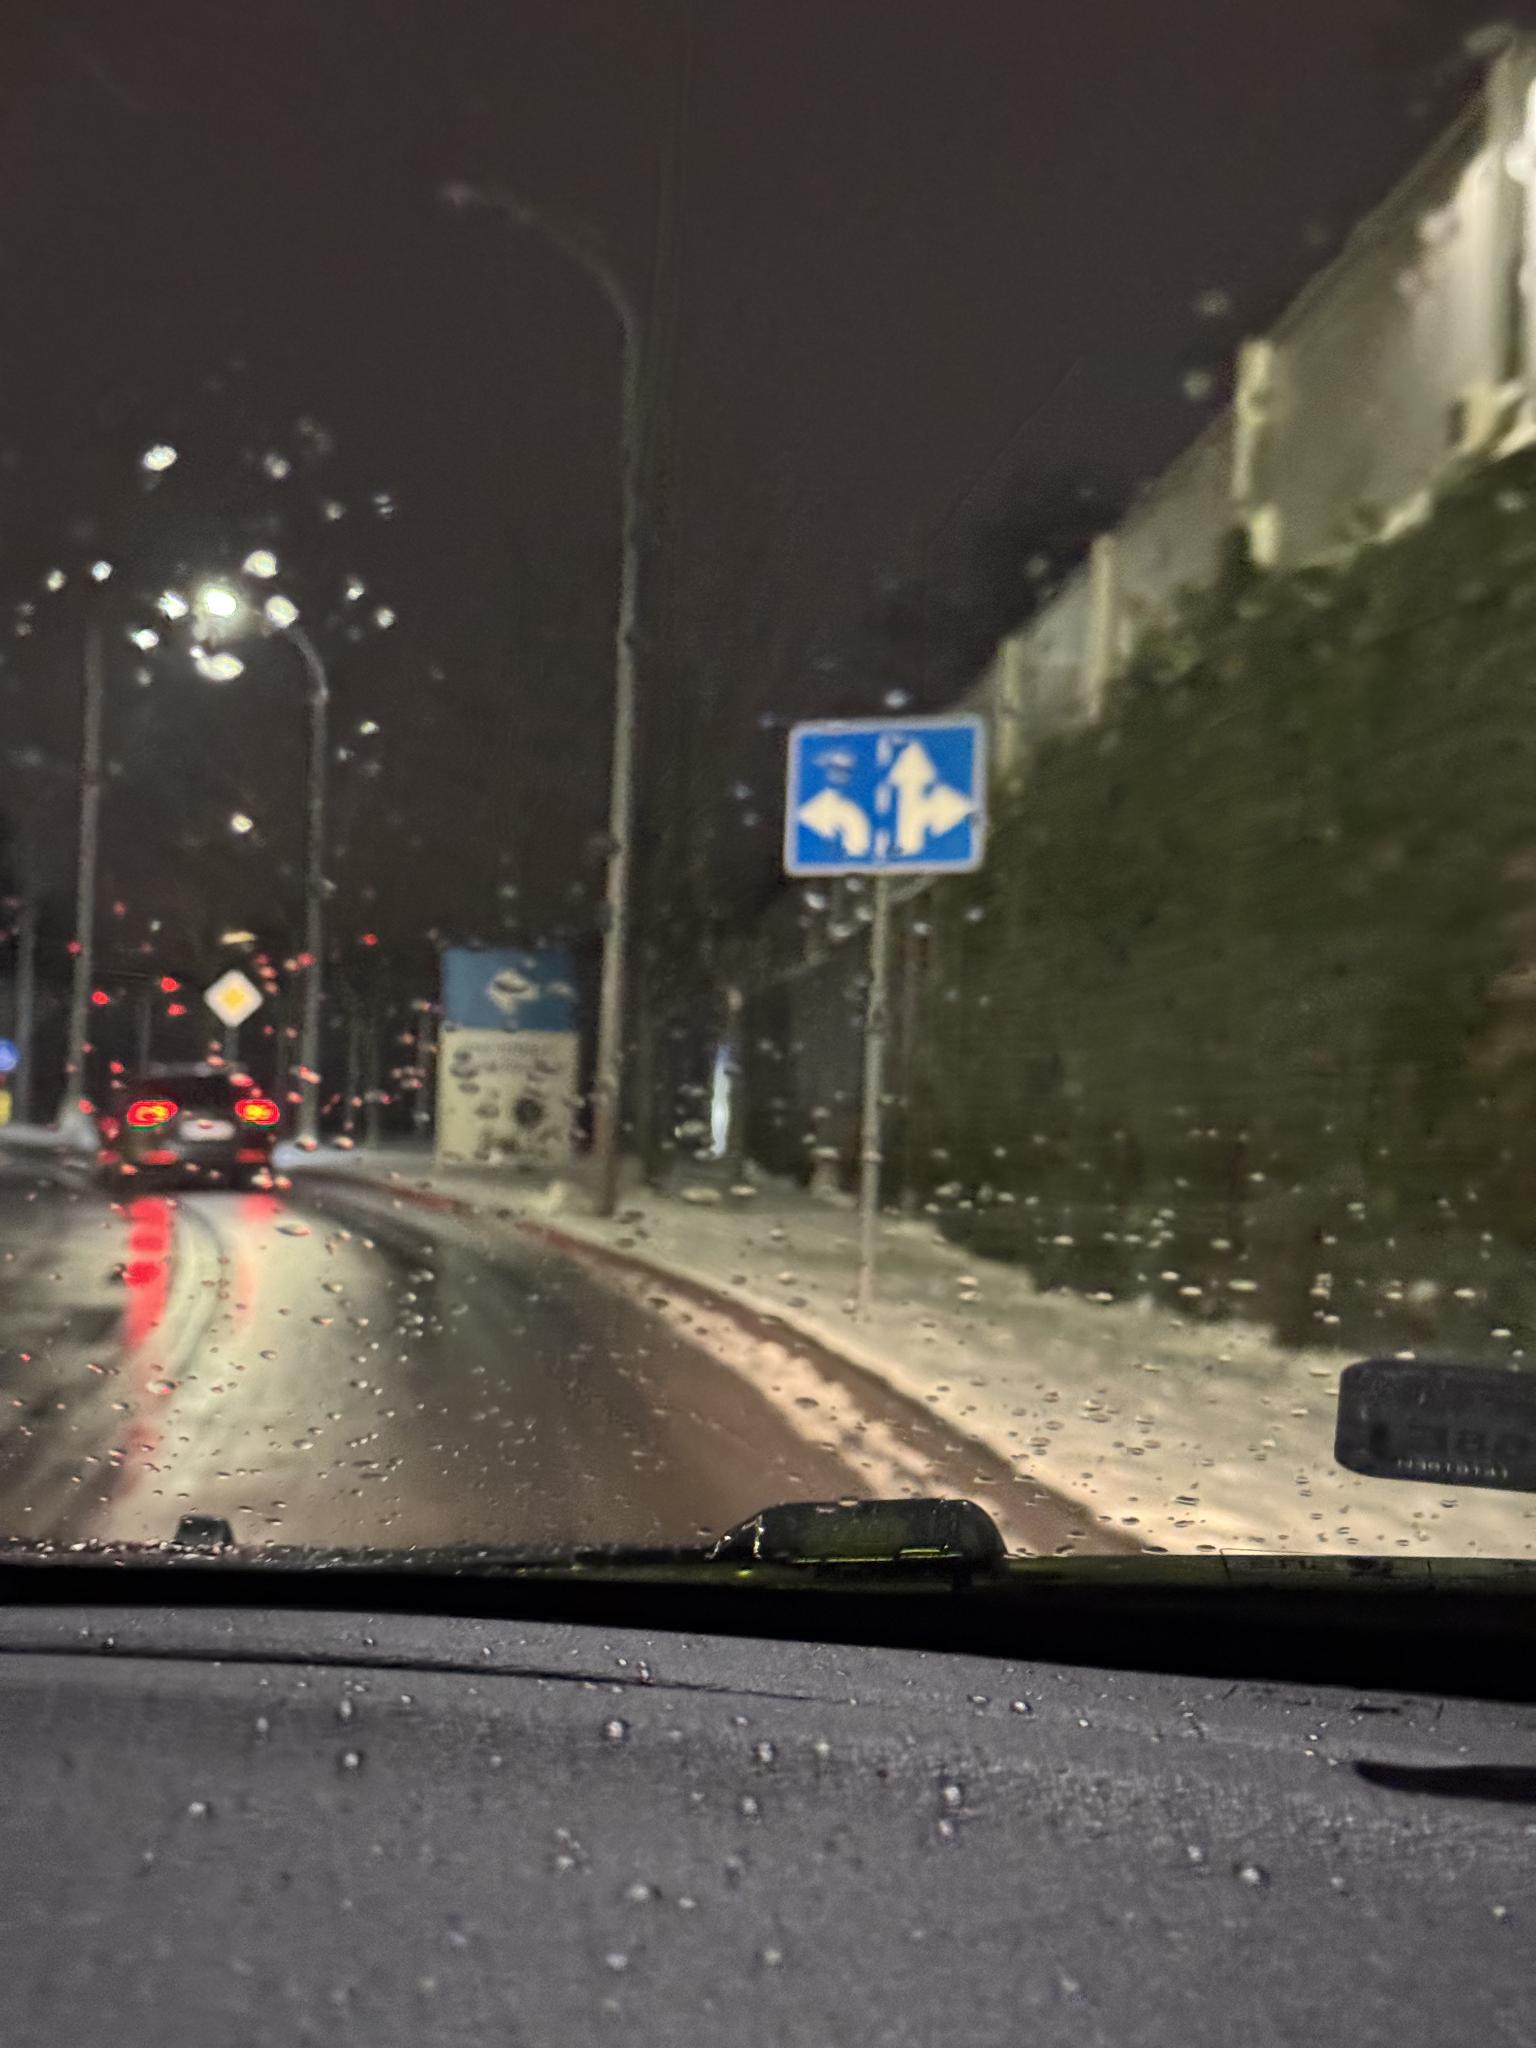information: (203, 968, 266, 1027)
other: (781, 719, 984, 874)
